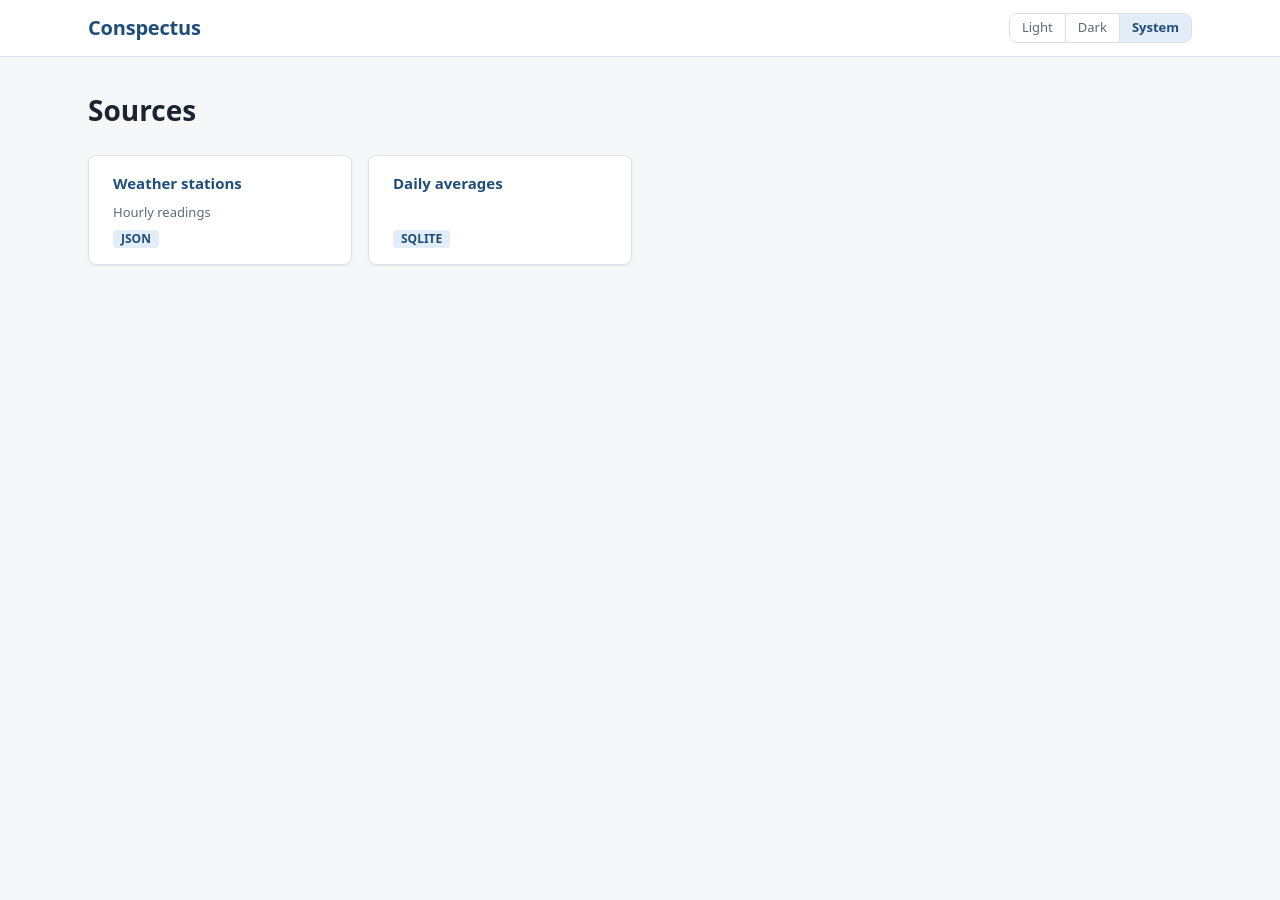
Test: ThemeSwitch › switches theme and remembers the choice
Click the button "Dark". click: (1092, 28)
box: [1065, 14, 1119, 42]
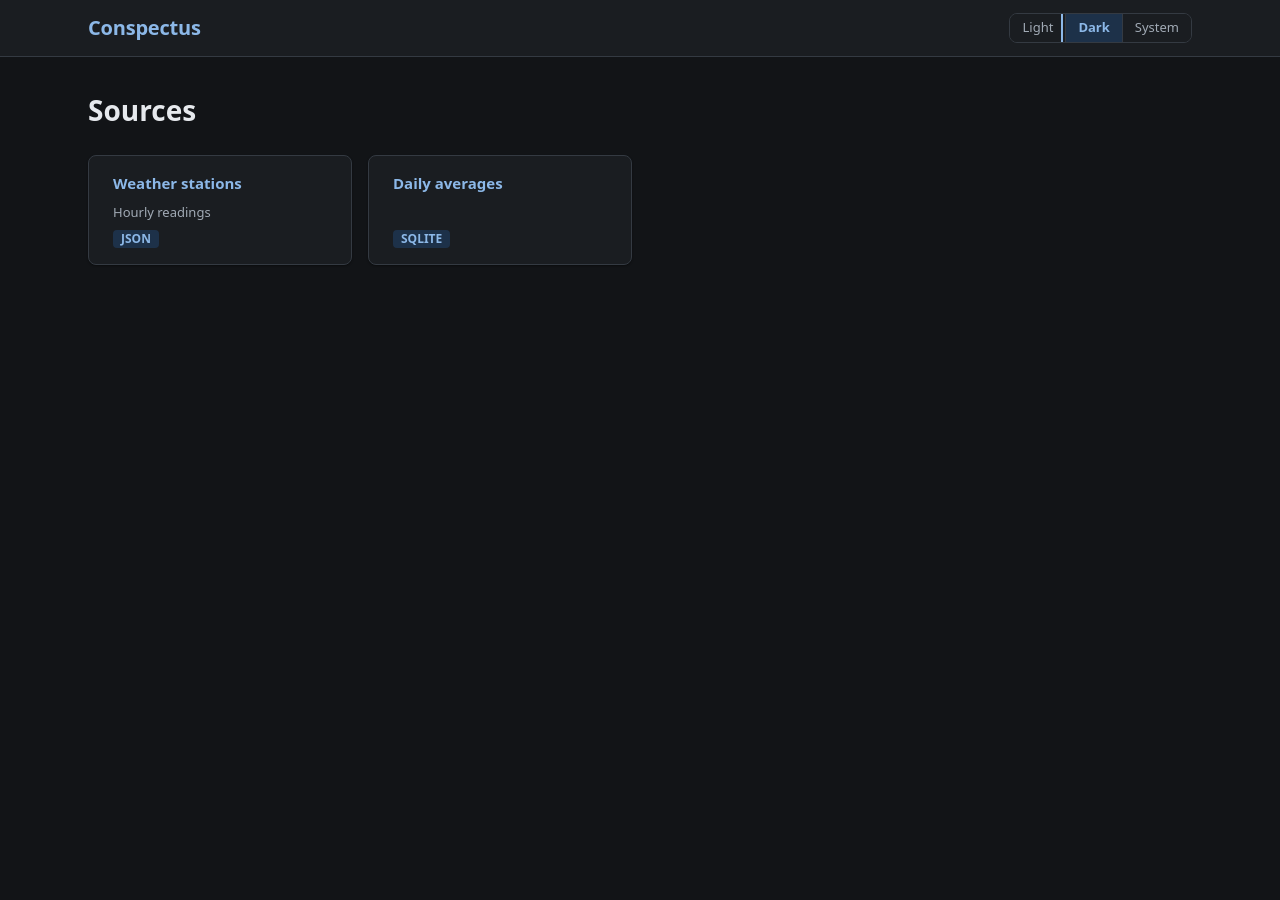
Expected: the button "Dark" is pressed, [1065, 14, 1122, 42]
